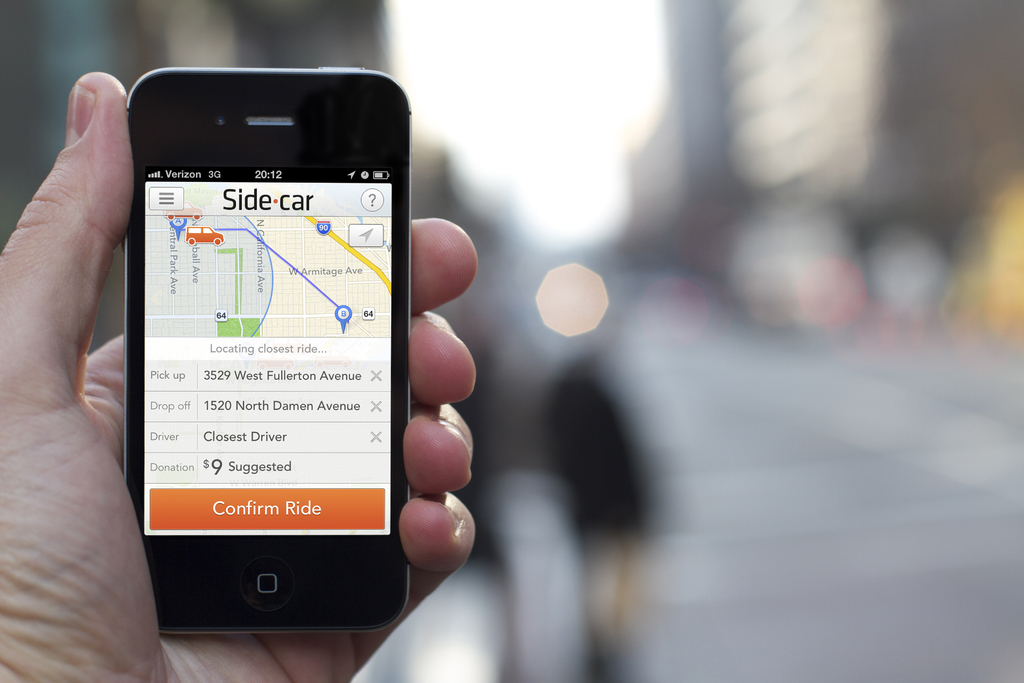Mobile-phone: (124, 62, 416, 636)
